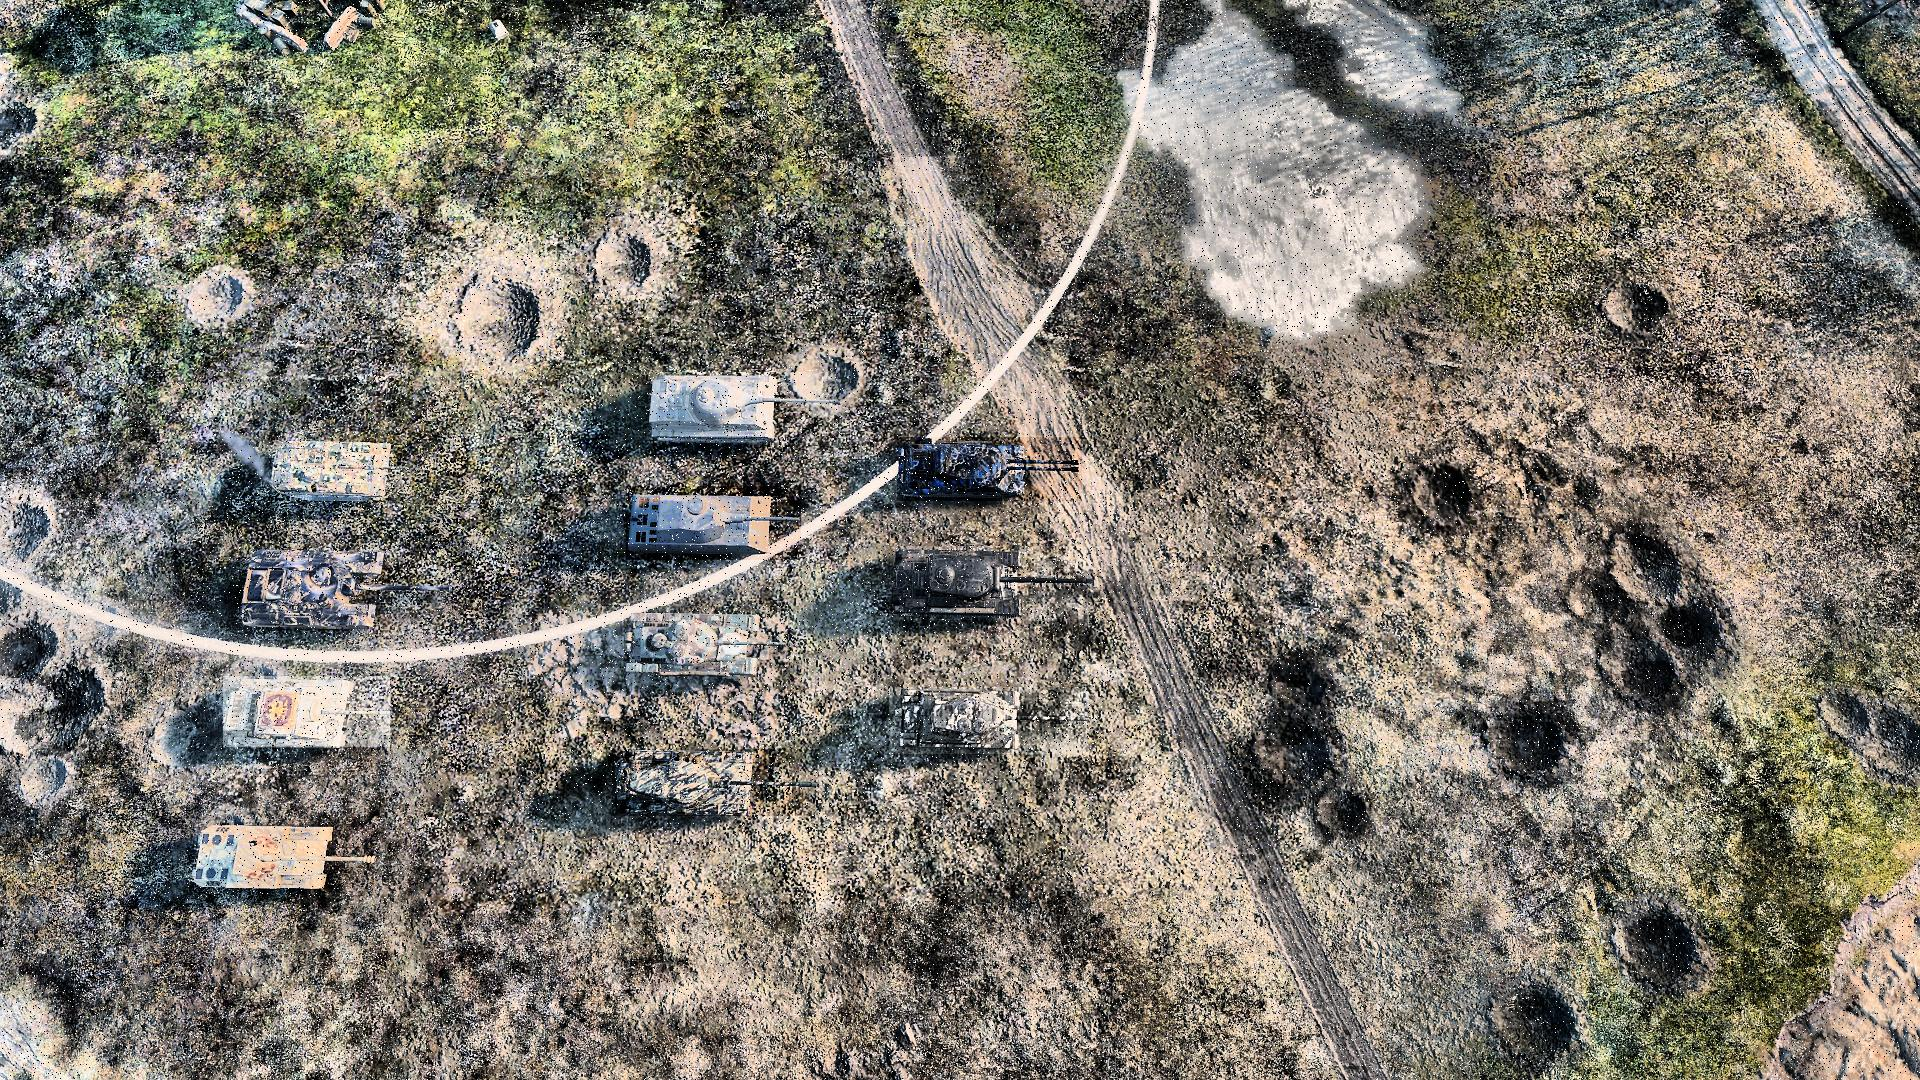military-vehicle: (243, 543, 452, 629), (893, 546, 1093, 621), (612, 749, 819, 816), (649, 373, 839, 446), (190, 822, 378, 893), (889, 688, 1089, 754), (626, 487, 802, 560), (625, 607, 793, 680), (897, 436, 1083, 501), (223, 676, 390, 748), (266, 433, 405, 500)
